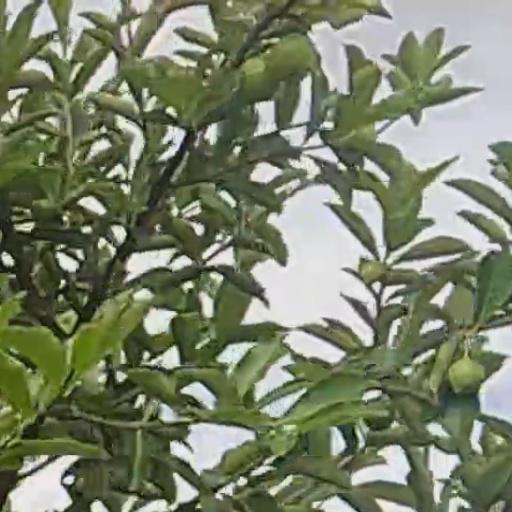acerola_verde: (273, 34, 311, 82), (450, 359, 483, 394)
